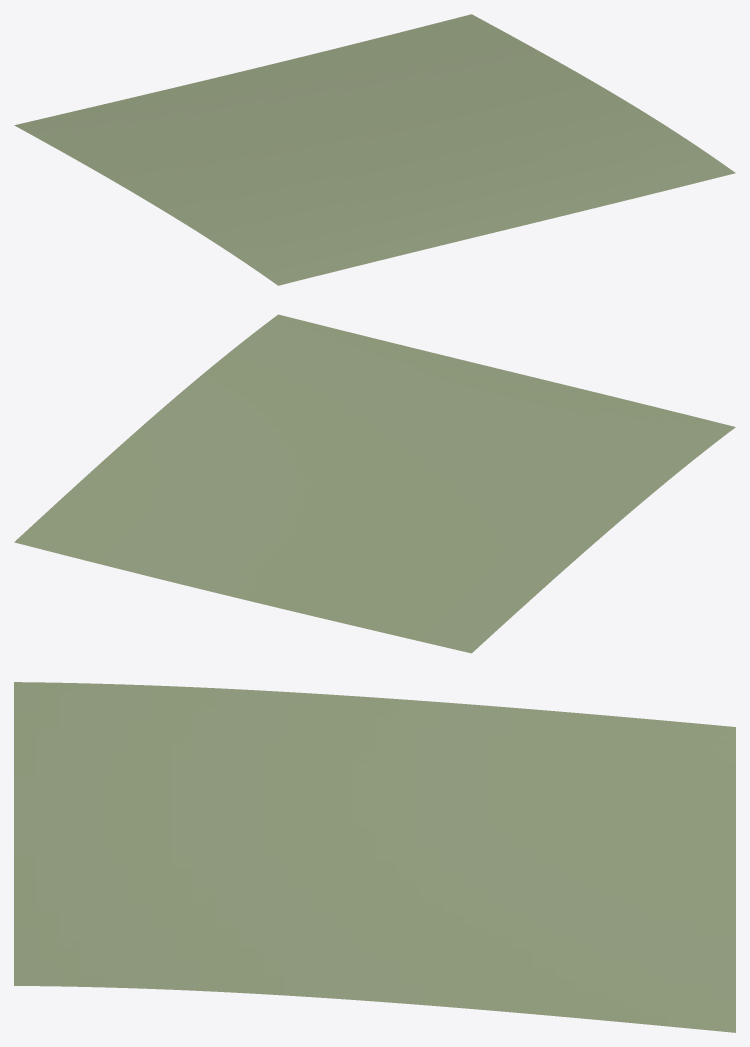
Rendered from desert-6-27.glb.
The picture shows the model from 3 angles, top to bottom: view 1: azimuth 30°, elevation 25°; view 2: azimuth 150°, elevation 25°; view 3: azimuth 270°, elevation 25°; orthographic projection. The views are drawn at different scales.
Parts seen in each view (by area): view 1: desert-6-27; view 2: desert-6-27; view 3: desert-6-27.
Boxes of the visible parts, x1,y1,x2,y2 form: desert-6-27: (14,14,735,285); desert-6-27: (14,314,735,653); desert-6-27: (14,682,735,1032).
Size of the model in its own units: 512 by 38.2 by 512.
